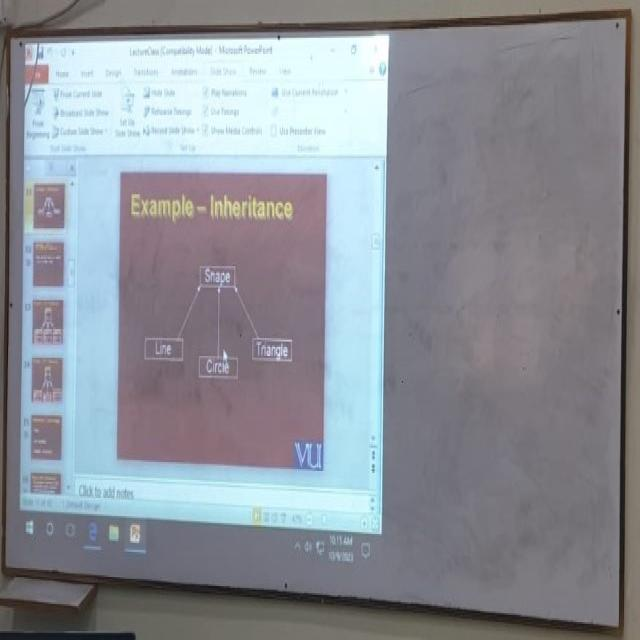Slide: (17, 30, 392, 568)
White-board: (6, 19, 628, 629)
